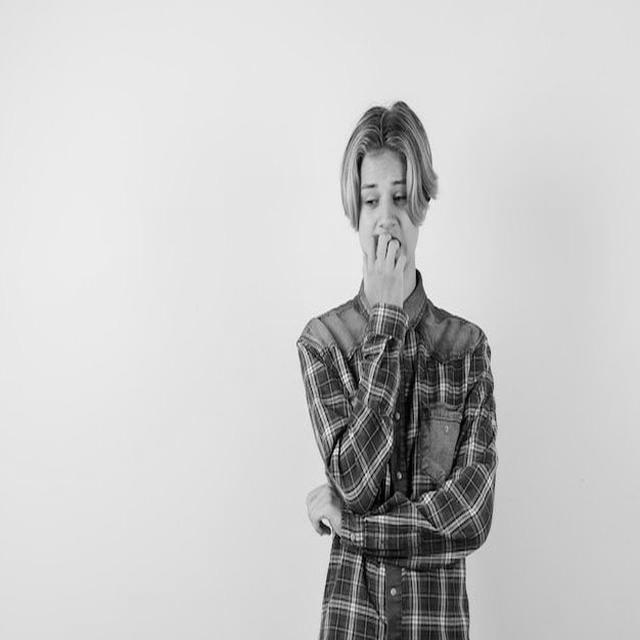Sadness: (358, 152, 418, 286)
